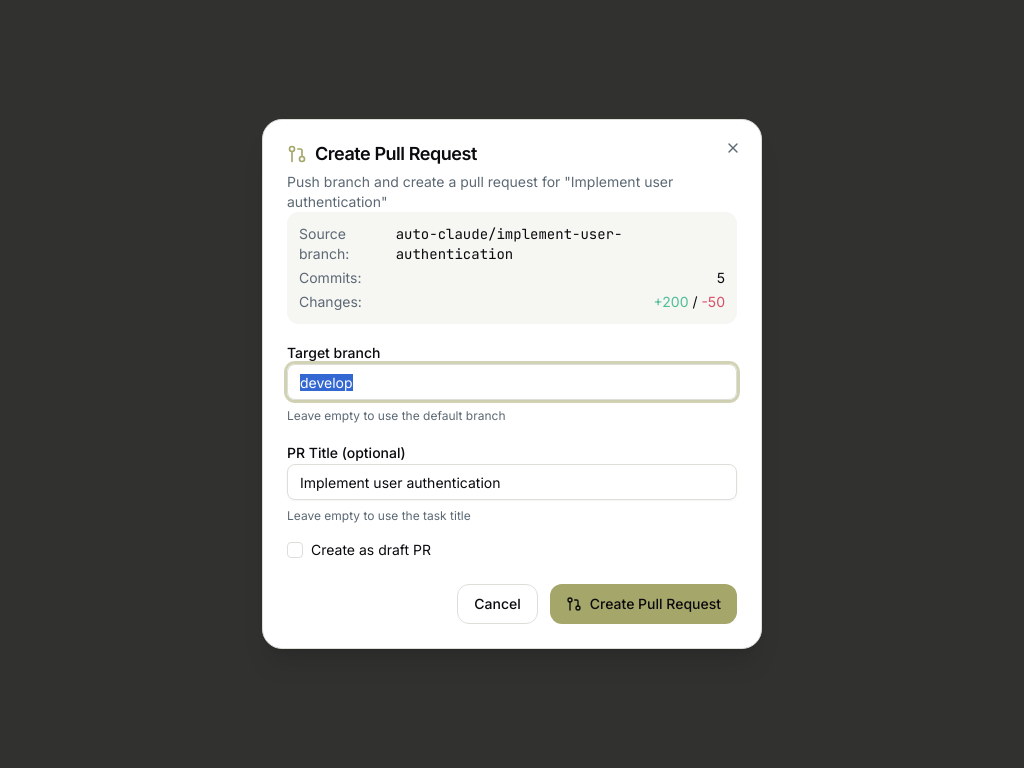
Test case: CreatePRDialog › should show already exists message when PR already exists
This screenshot has width=1024, height=768.
Click the button "Create Pull Request" at (643, 604), box [550,584,737,624]
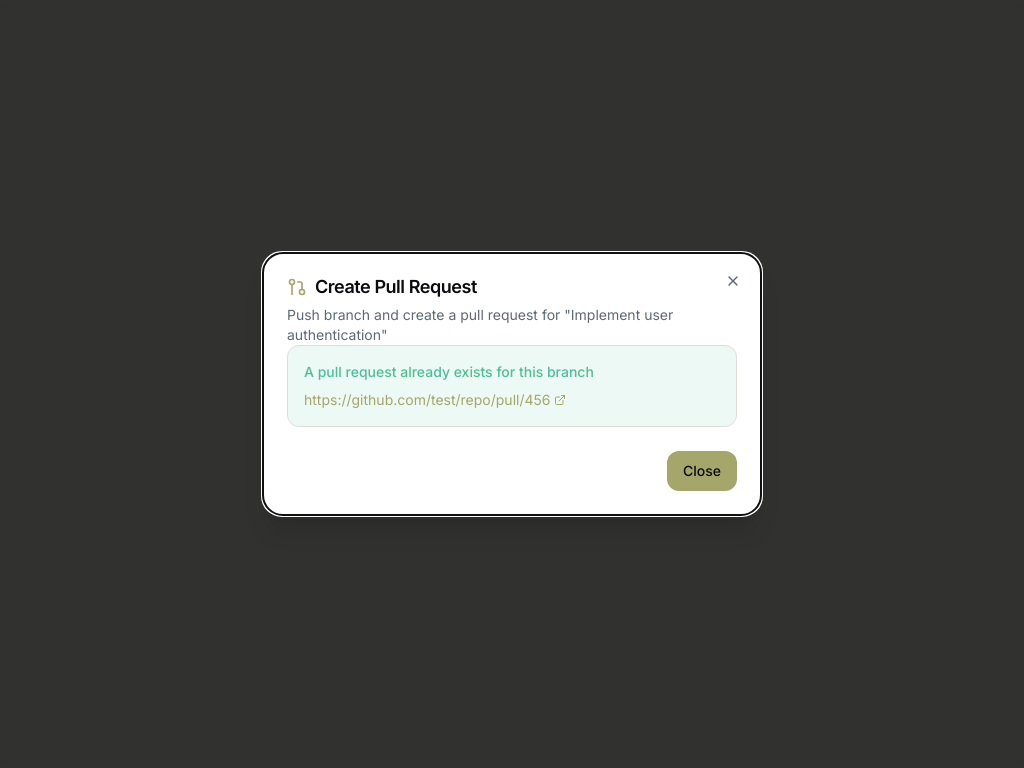
Result: the text "A pull request already exists for this branch" is shown at [304,363,594,380]
Result: the button "https://github.com/test/repo/pull/456" is shown at [304,390,566,410]
